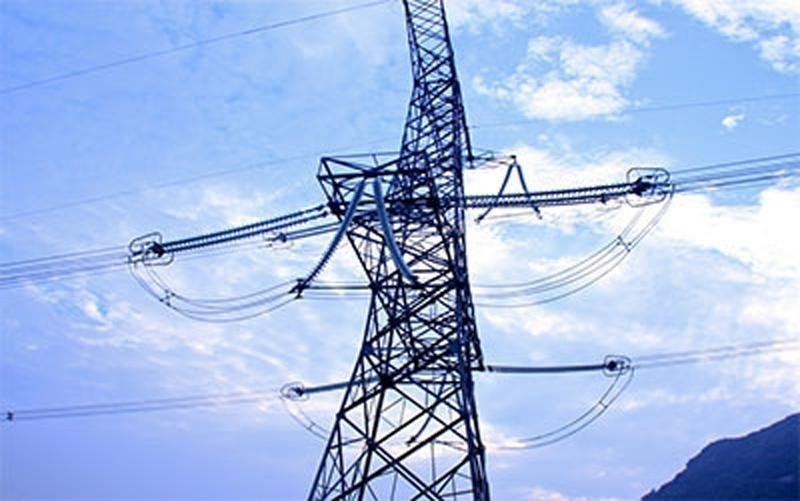power_tower: (126, 0, 676, 501)
